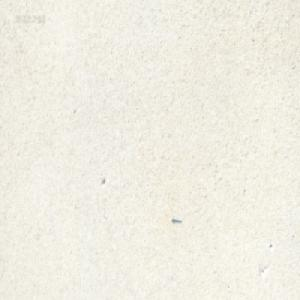Nail: (171, 216, 182, 223)
